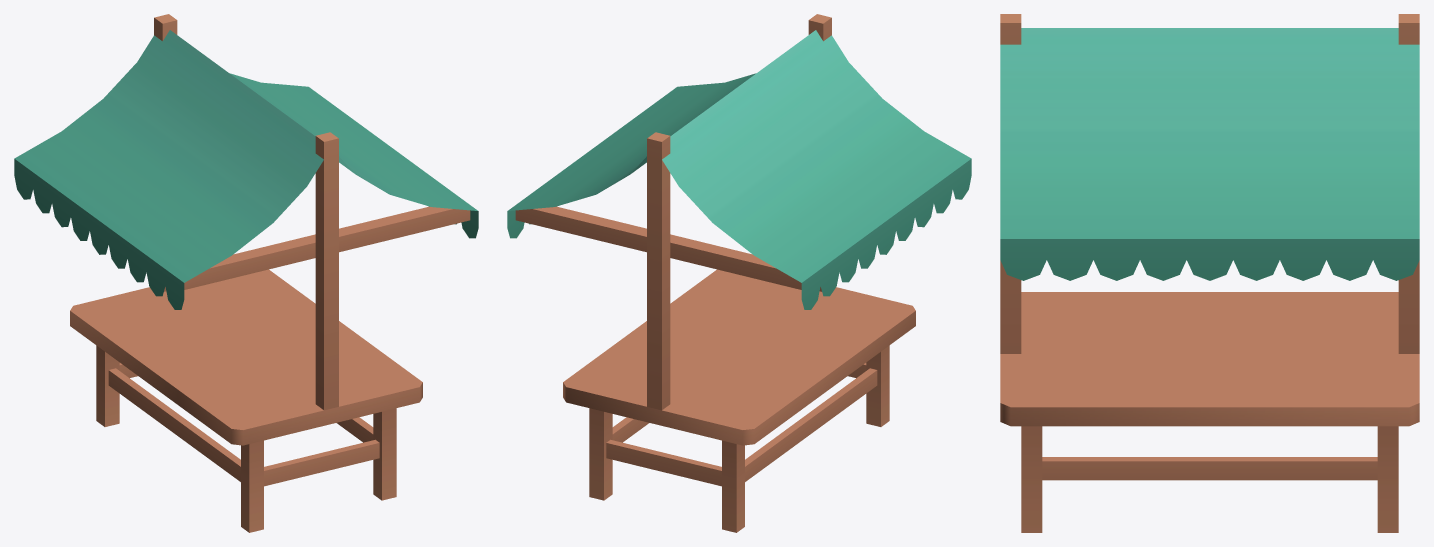
Rendered from k-fantasy-town-stall-green.glb.
The picture shows the model from 3 angles, left to right: view 1: azimuth 30°, elevation 25°; view 2: azimuth 150°, elevation 25°; view 3: azimuth 270°, elevation 25°; orthographic projection. The views are drawn at different scales.
Parts seen in each view (by area): view 1: stall-green; view 2: stall-green; view 3: stall-green.
Boxes of the visible parts, bbox=[...] form: stall-green: bbox=[14, 14, 478, 532]; stall-green: bbox=[507, 14, 971, 532]; stall-green: bbox=[1000, 14, 1419, 532].
Size of the model in its own units: 1 by 1.24 by 1.
1 material, 1 textured.
